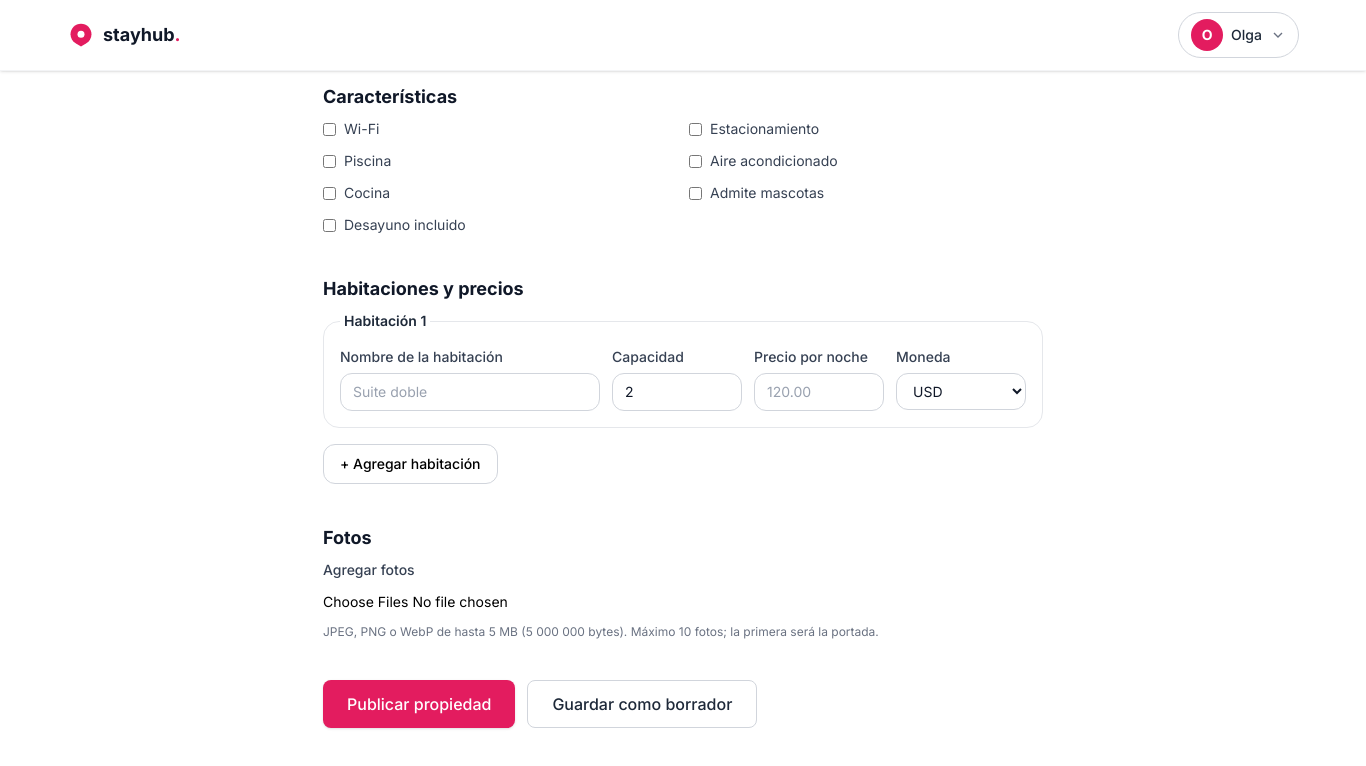
Test: PublishProperty form › validates required fields before sending anything
This screenshot has width=1366, height=766.
(page scrolled)
Replace the text in the number field labelled "Capacidad" with "0": (677, 392) [612,373,742,411]
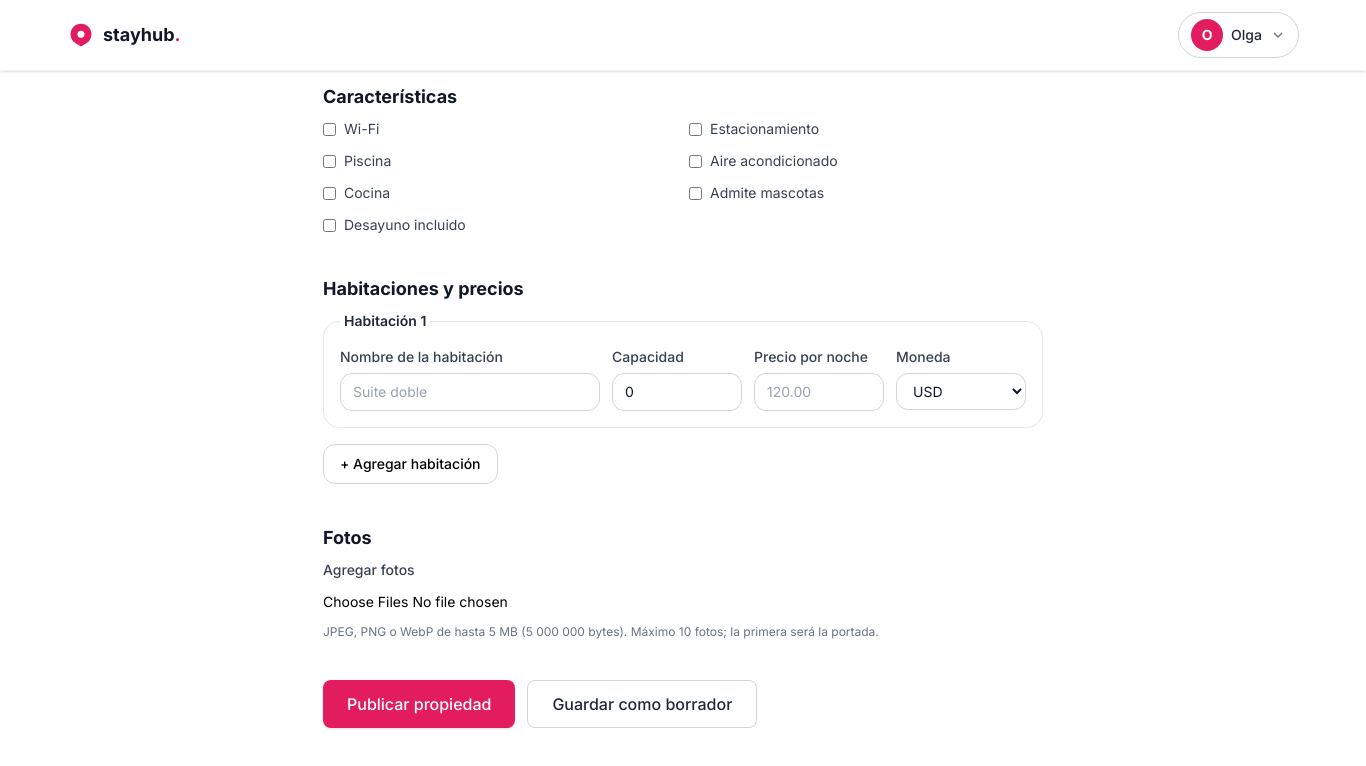
Click the button "Publicar propiedad": (419, 704) [323,680,515,728]
(page scrolled)
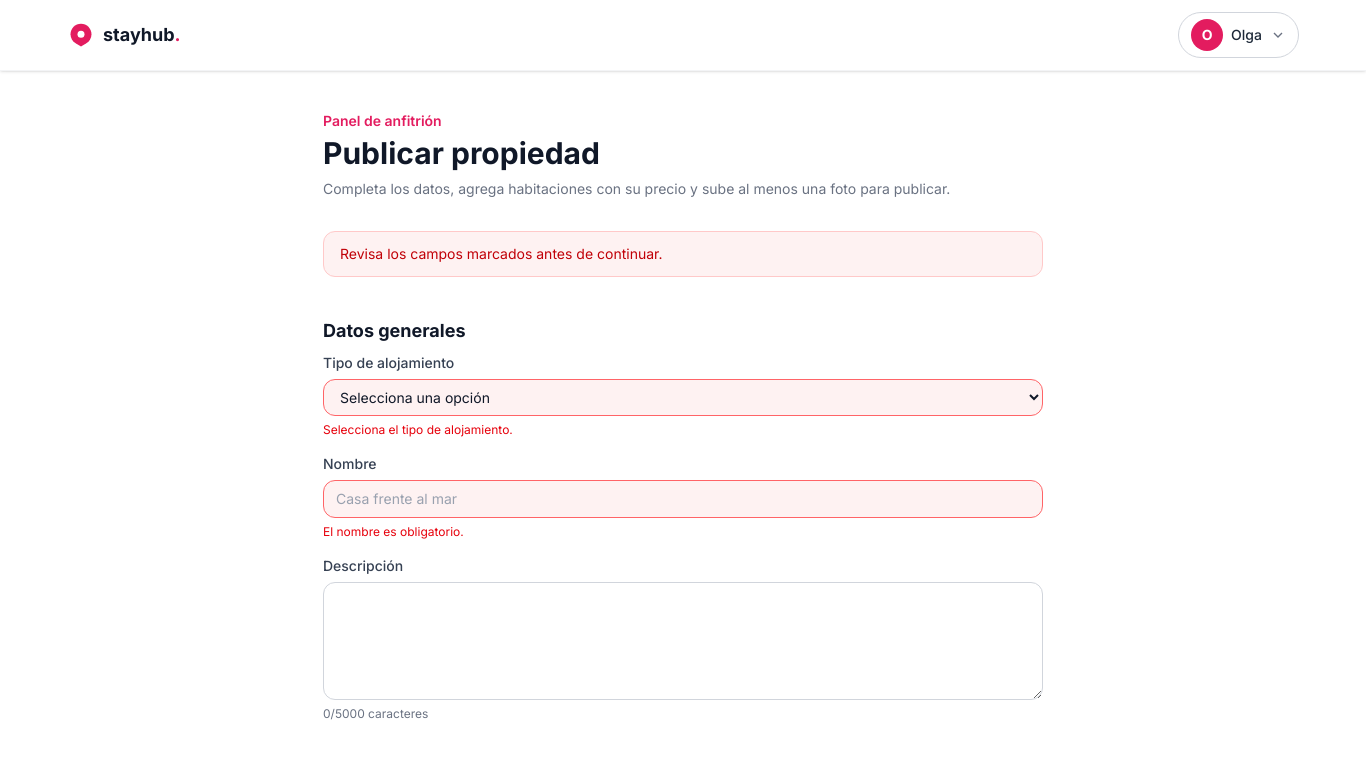
Check: the text "Revisa los campos marcados antes de continuar." is shown, box [323,231,1043,277]
Check: the text "Selecciona el tipo de alojamiento." is shown, box [323,422,513,437]
Check: the text "El nombre es obligatorio." is shown, box [323,524,464,539]
